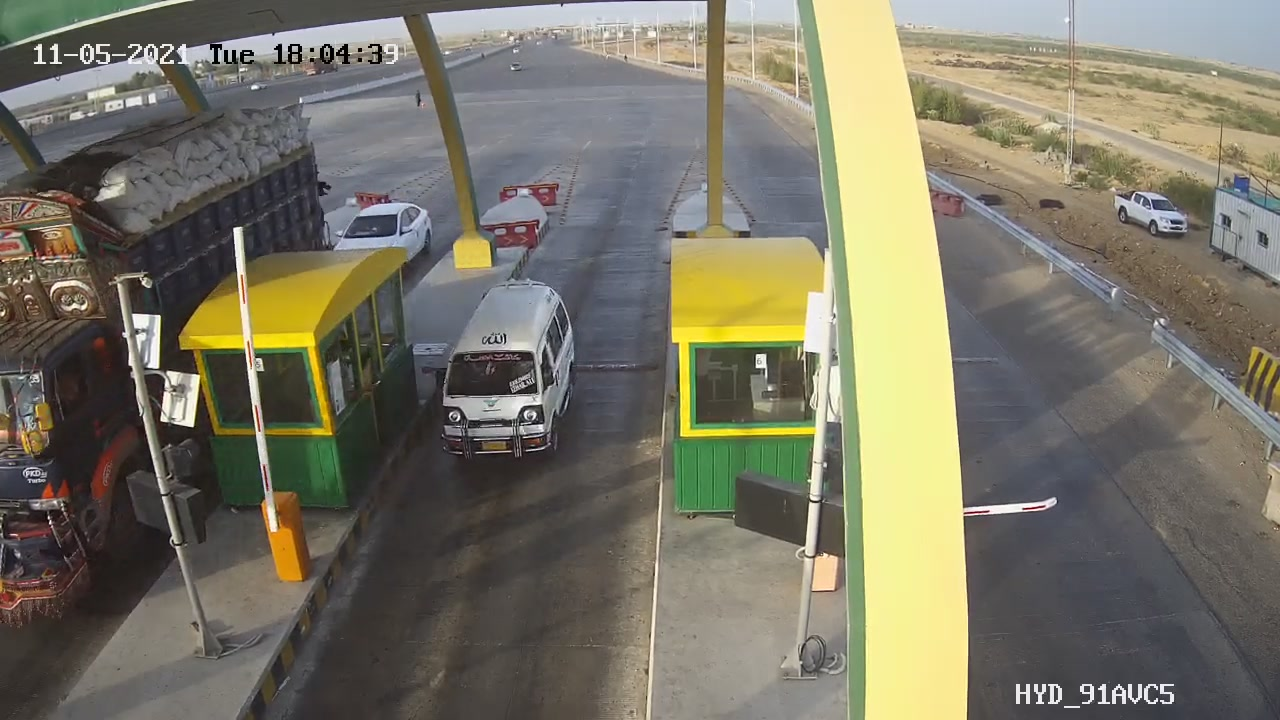F1: (419, 262, 602, 485)
